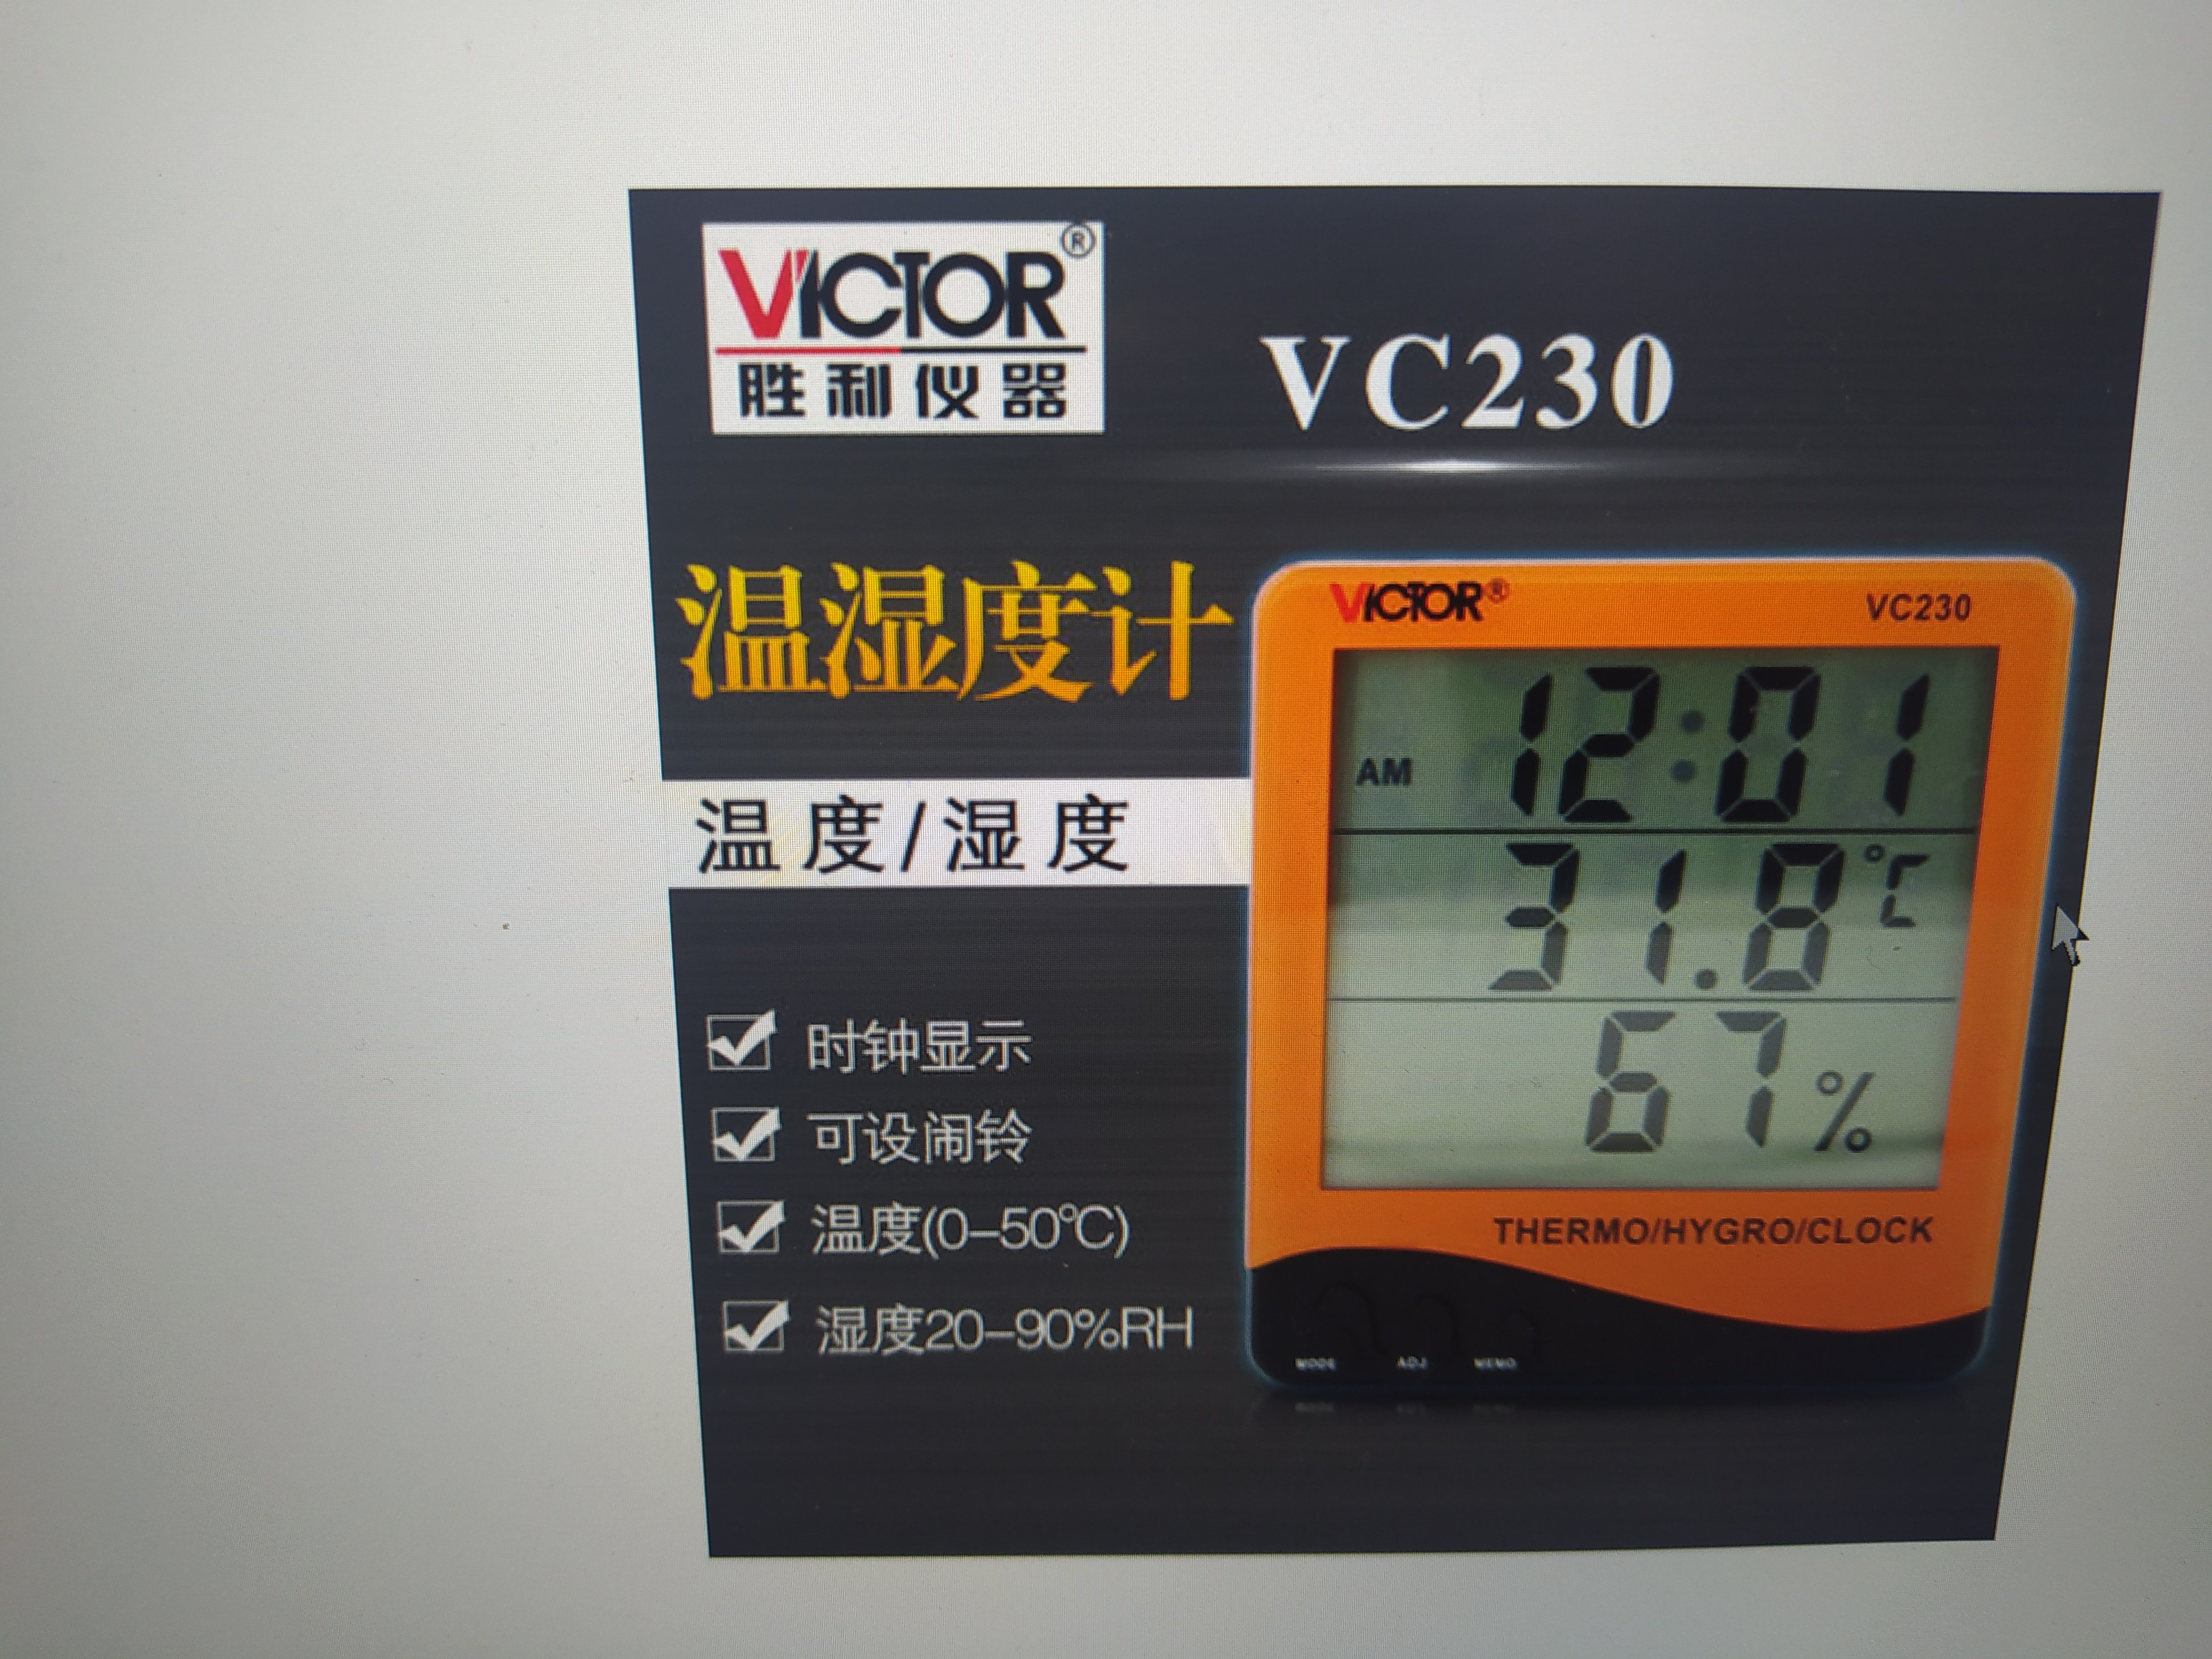.: (1689, 849, 1721, 995)
0: (1721, 667, 1822, 824)
1: (1881, 674, 1932, 821), (1512, 674, 1550, 816), (1649, 845, 1683, 993)
2: (1564, 667, 1660, 821)
3: (1494, 842, 1580, 995)
6: (1585, 1007, 1676, 1152)
7: (1714, 1011, 1785, 1155)
8: (1743, 843, 1844, 992)
